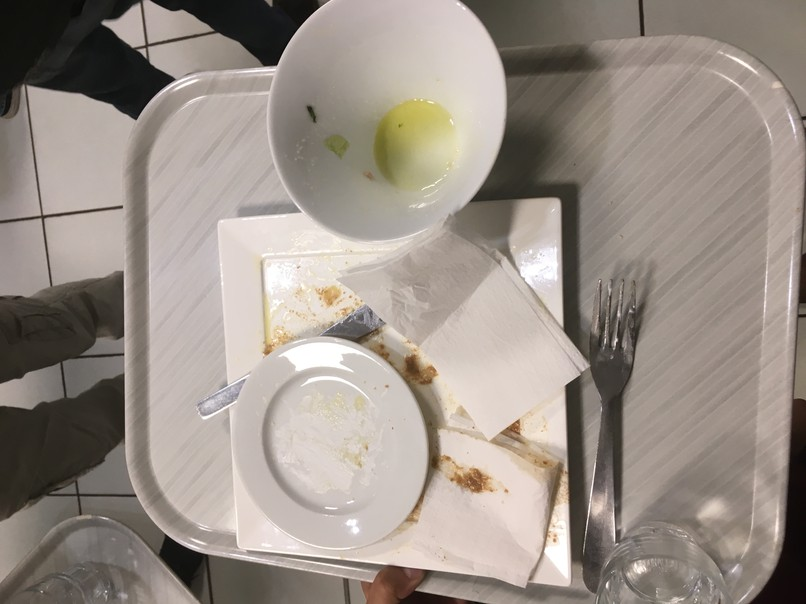cup: (601, 513, 722, 604)
cutlery: (592, 264, 648, 604), (189, 368, 273, 431)
trash: (352, 221, 588, 423), (434, 429, 555, 583)
